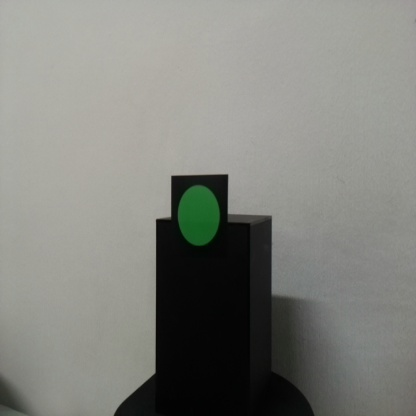id_5: (170, 175, 229, 255)
